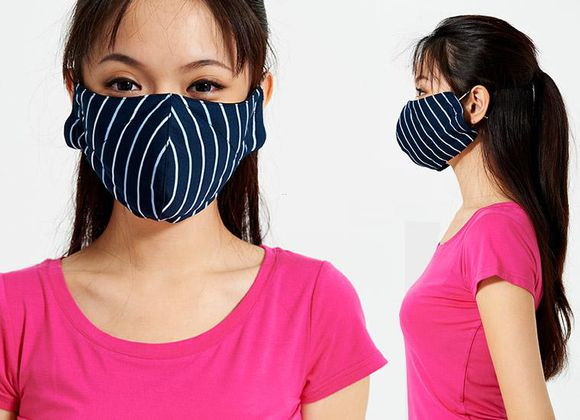face_mask: (75, 1, 255, 222), (408, 53, 462, 161)
